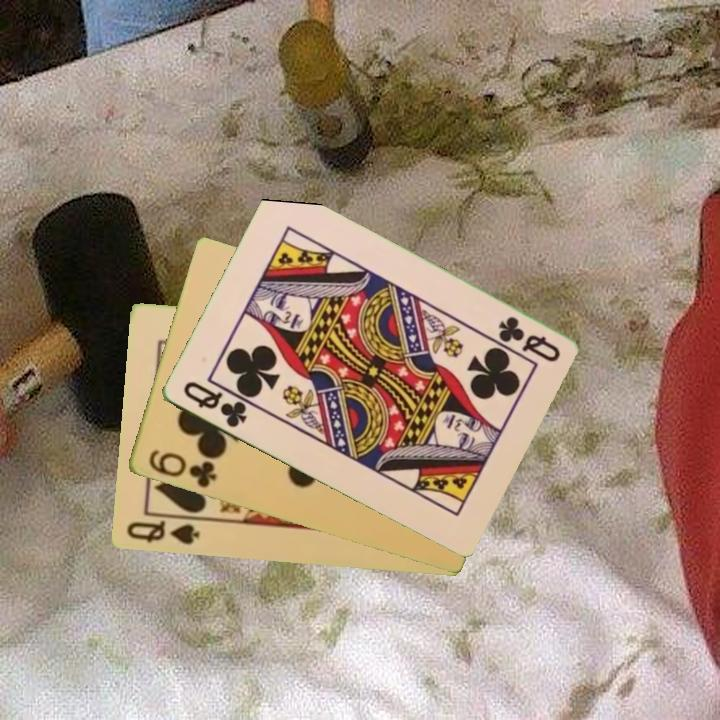6c: (144, 446, 219, 491)
Qc: (179, 377, 250, 431), (494, 312, 563, 366)
Qs: (123, 517, 202, 548)
